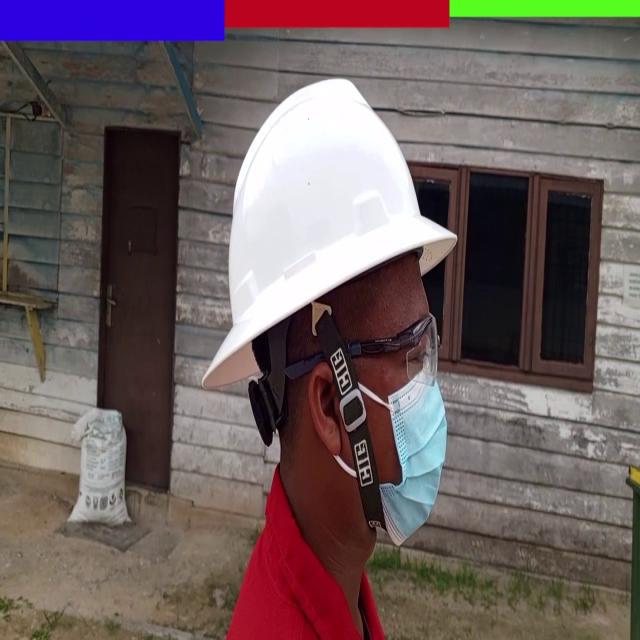Hardhat: (200, 76, 460, 396)
Mask: (380, 375, 448, 547)
Strapped: (308, 299, 384, 541)
